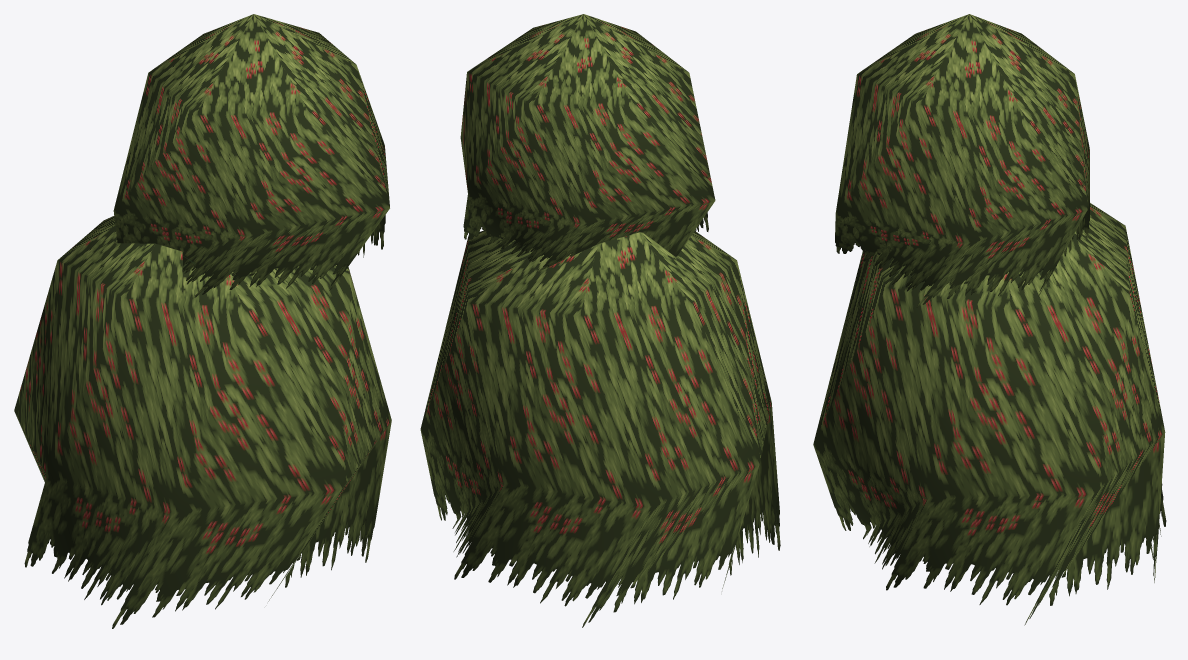
Rendered from BerryBushTall.fbx.
3 views of the same model, side by side, from view 1: azimuth 30°, elevation 25°; view 2: azimuth 150°, elevation 25°; view 3: azimuth 270°, elevation 25° (orthographic). The views are drawn at different scales.
Parts seen in each view (by area): view 1: BerryBushTall; view 2: BerryBushTall; view 3: BerryBushTall.
Boxes of the visible parts, x1,y1,x2,y2 form: BerryBushTall: (14, 14, 391, 628); BerryBushTall: (420, 14, 780, 627); BerryBushTall: (813, 14, 1166, 625).
Bounding box in the file's own units: 0.9602 × 1.61 × 0.9082.
